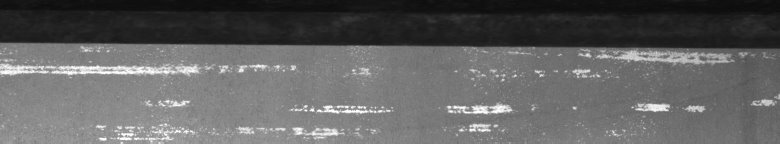kb: (4, 15, 776, 136)
